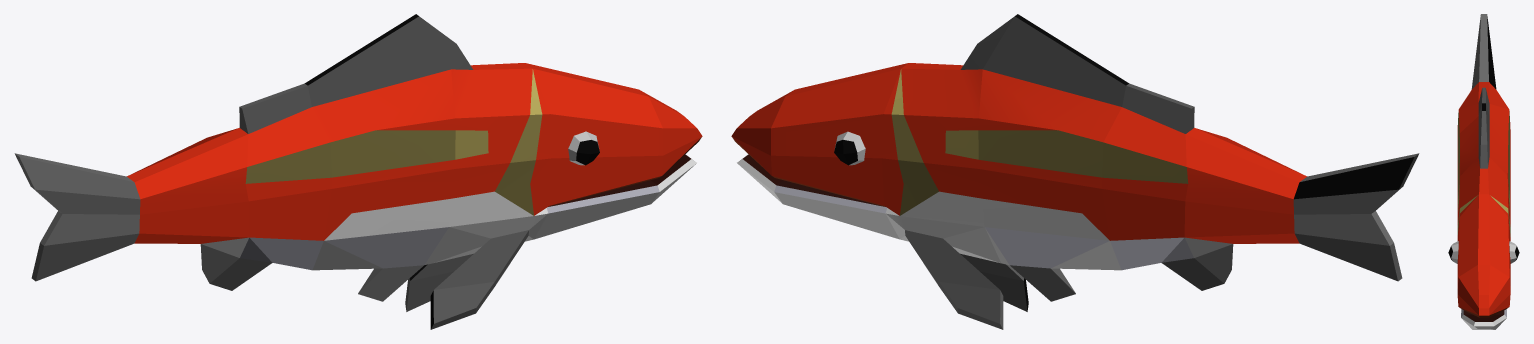
File: FishFinScale.fbx
3 renders of one model, left to right at view 1: azimuth 30°, elevation 25°; view 2: azimuth 150°, elevation 25°; view 3: azimuth 270°, elevation 25°, orthographic. The views are drawn at different scales.
Parts seen in each view (by area): view 1: fish_middle; view 2: fish_middle; view 3: fish_middle.
Part boxes in pixels (x1,y1,x2,y2): fish_middle: (14,14,702,329); fish_middle: (731,14,1419,329); fish_middle: (1448,14,1519,329).
Size of the model in its own units: 81.12 by 34.82 by 11.62.
